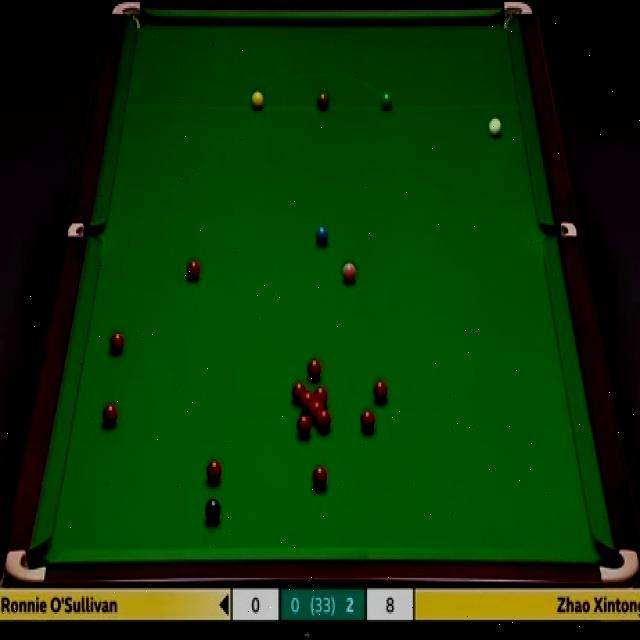black-ball: (205, 499, 222, 526)
blue-ball: (315, 223, 329, 247)
brown-ball: (317, 89, 329, 110)
green-ball: (380, 93, 393, 112)
pink-ball: (342, 261, 357, 283)
red-ball: (359, 408, 377, 436), (372, 380, 389, 407), (102, 400, 118, 428), (110, 331, 126, 358), (312, 464, 327, 491), (206, 459, 222, 483), (296, 414, 311, 438), (307, 358, 321, 383), (292, 381, 306, 404), (317, 409, 331, 432), (187, 258, 200, 280), (314, 386, 328, 406), (301, 392, 314, 411), (311, 401, 323, 420)
white-ball: (486, 114, 502, 140)
yellow-ball: (251, 91, 264, 111)
